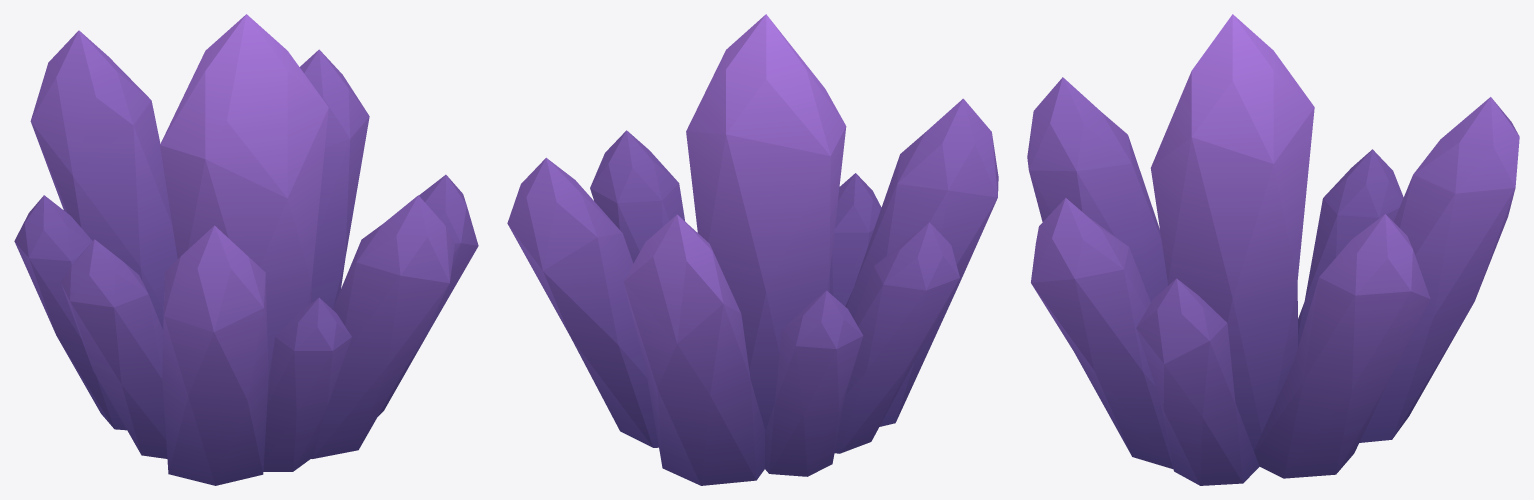
File: Crystal_P_4.glb
3 views of the same model, side by side, from view 1: azimuth 30°, elevation 25°; view 2: azimuth 150°, elevation 25°; view 3: azimuth 270°, elevation 25° (orthographic). The views are drawn at different scales.
Parts seen in each view (by area): view 1: crystal_4; view 2: crystal_4; view 3: crystal_4.
Part boxes in pixels (bbox=[...]): crystal_4: bbox=[14, 14, 478, 485]; crystal_4: bbox=[507, 14, 998, 485]; crystal_4: bbox=[1027, 14, 1519, 485].
Bounding box in the file's own units: 0.9009 × 0.9253 × 1.
Materials: 1 (1 with a texture image).
